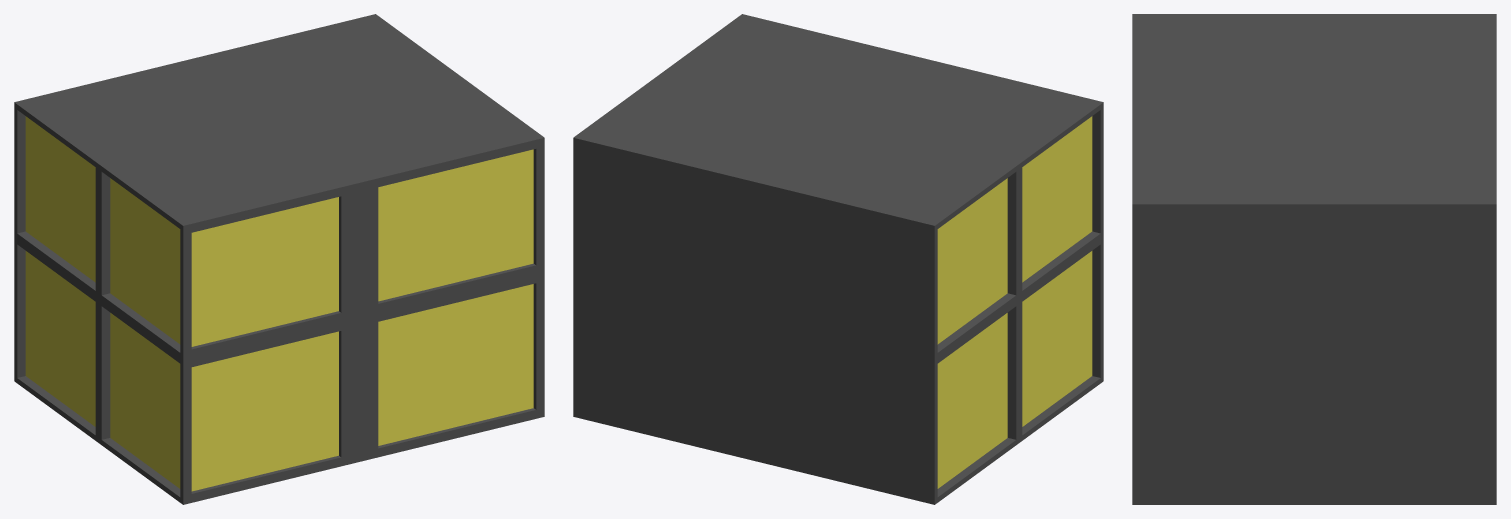
The model's file is Office2.fbx.
3 views of the same model, side by side, from view 1: azimuth 30°, elevation 25°; view 2: azimuth 150°, elevation 25°; view 3: azimuth 270°, elevation 25° (orthographic). The views are drawn at different scales.
Visible parts, largest first — view 1: Cube.001; view 2: Cube.001; view 3: Cube.001.
Boxes of the visible parts, bbox=[...] form: Cube.001: bbox=[14, 14, 544, 504]; Cube.001: bbox=[573, 14, 1103, 504]; Cube.001: bbox=[1132, 14, 1496, 504].
Size of the model in its own units: 2096 by 1545 by 1697.
